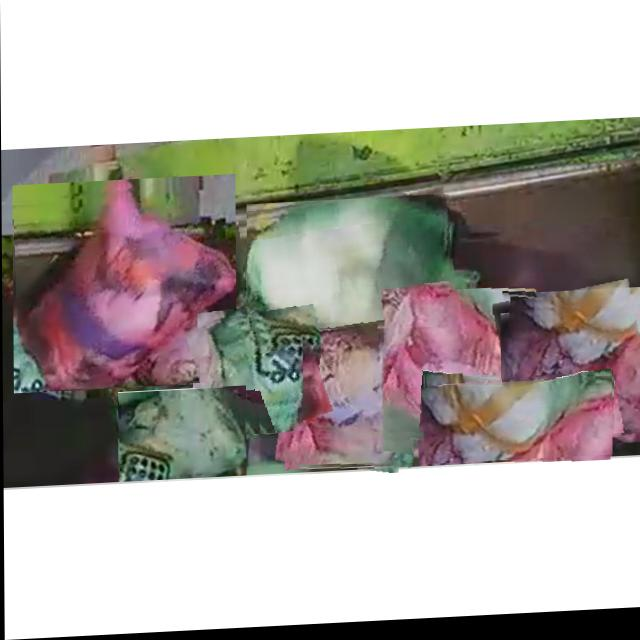general_trashbag: (247, 202, 448, 334), (420, 385, 611, 466), (119, 392, 244, 481), (210, 319, 302, 437)
other_trashbag: (17, 189, 236, 391), (379, 296, 534, 448), (289, 330, 412, 472), (501, 315, 640, 438)
